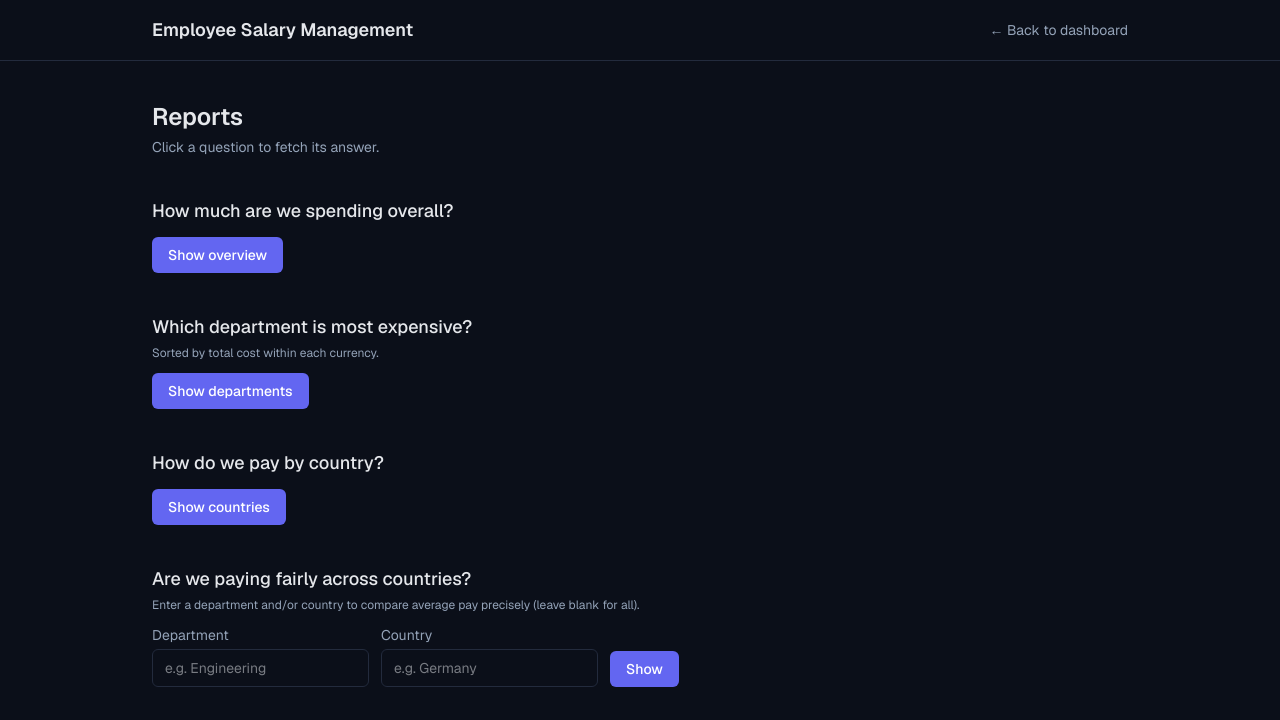
Test: ReportsPage › fetches the department+country answer with the typed filters
Type "Engineering" into the field labelled "Department" at (260, 668), box 152,649 -> 369,687
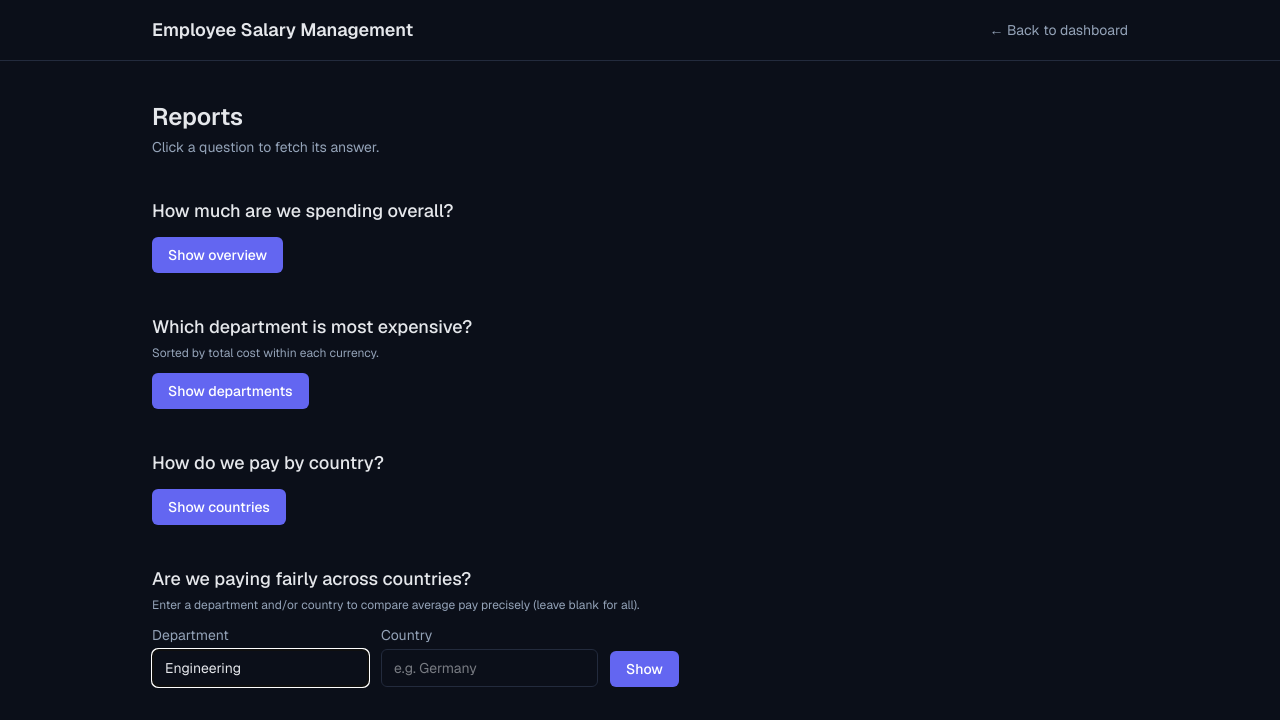
Click the button "Show" at (644, 669), box 610,651 -> 679,687
(page scrolled)
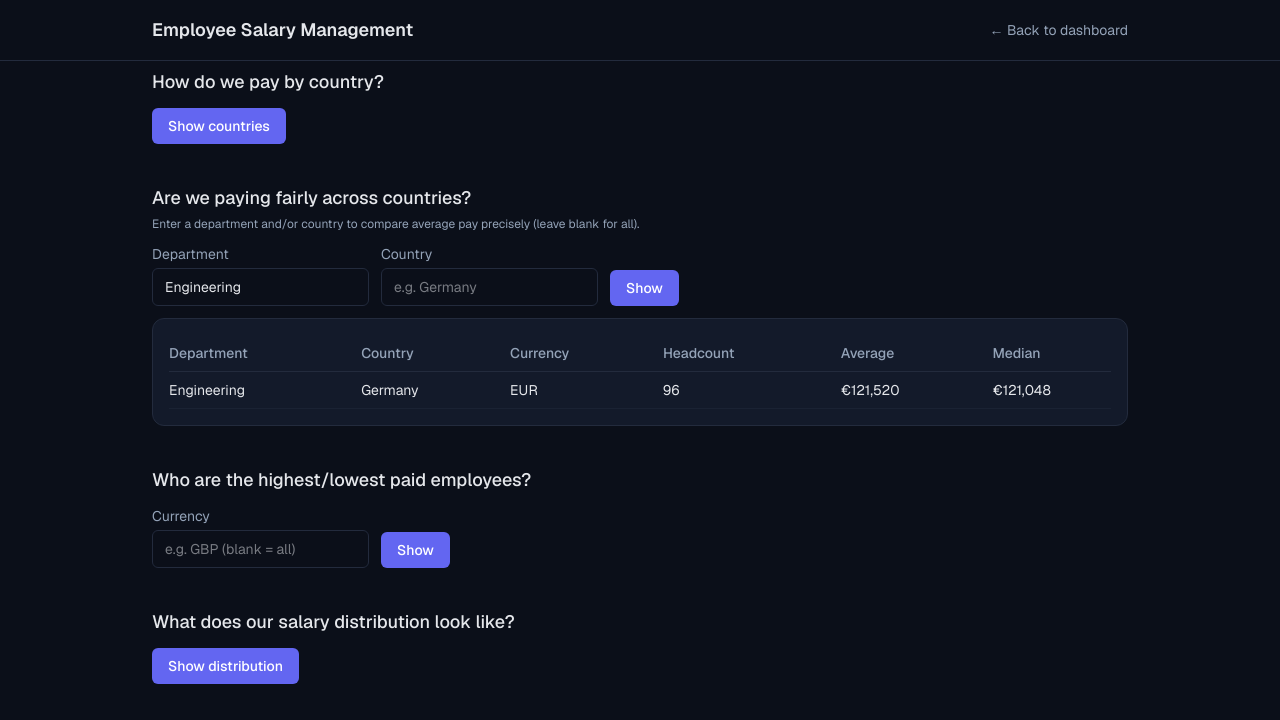
Expected: the text "Germany" is shown, 361,372 -> 510,408
